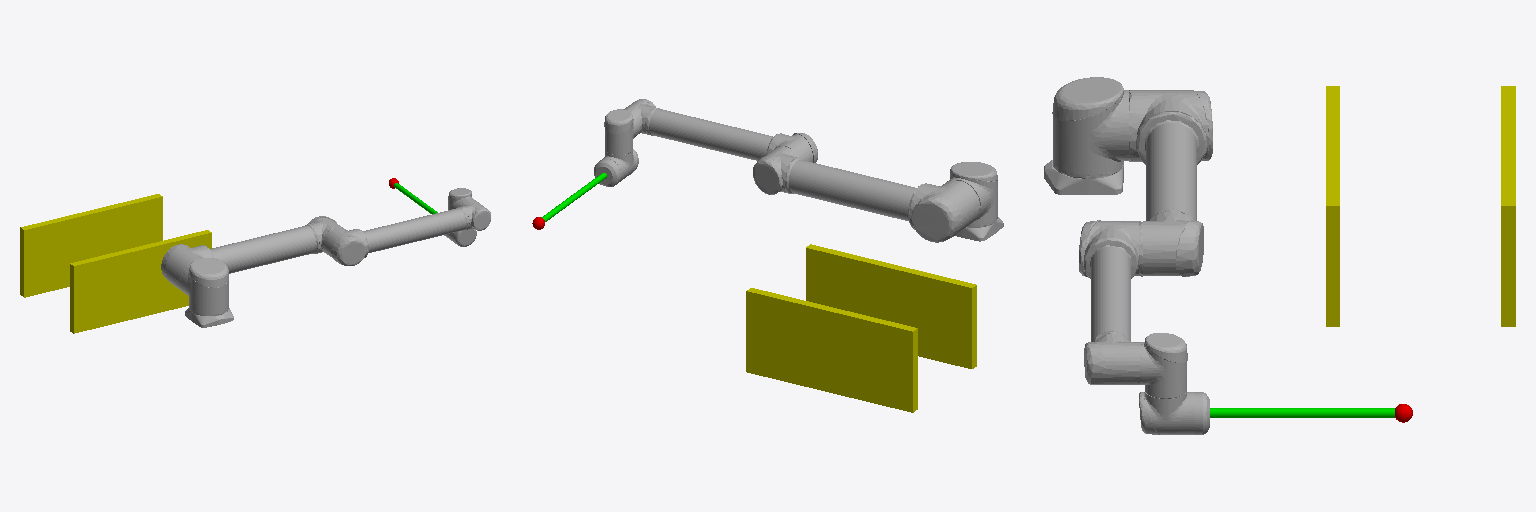
URDF robot description (ur10):
<?xml version="1.0" ?>
<!-- =================================================================================== -->
<!-- |    This document was autogenerated by xacro from ur10_robot.urdf.xacro          | -->
<!-- |    EDITING THIS FILE BY HAND IS NOT RECOMMENDED                                 | -->
<!-- =================================================================================== -->
<robot name="ur10" xmlns:xacro="http://www.ros.org/wiki/xacro">
  <!-- common stuff -->
  <material name="box_color">
    <color rgba="0.8 0.8 0.0 1"/>
  </material>
  <gazebo>
    <plugin filename="libgazebo_ros_control.so" name="ros_control">
      <!--robotNamespace>/</robotNamespace-->
      <!--robotSimType>gazebo_ros_control/DefaultRobotHWSim</robotSimType-->
    </plugin>
    <!--
    <plugin name="gazebo_ros_power_monitor_controller" filename="libgazebo_ros_power_monitor.so">
      <alwaysOn>true</alwaysOn>
      <updateRate>1.0</updateRate>
      <timeout>5</timeout>
      <powerStateTopic>power_state</powerStateTopic>
      <powerStateRate>10.0</powerStateRate>
      <fullChargeCapacity>87.78</fullChargeCapacity>     
      <dischargeRate>-474</dischargeRate>
      <chargeRate>525</chargeRate>
      <dischargeVoltage>15.52</dischargeVoltage>
      <chargeVoltage>16.41</chargeVoltage>
    </plugin>
-->
  </gazebo>
  <!-- ur10 -->
  <!-- arm -->
  <link name="base_link">
    <visual>
      <geometry>
        <mesh filename="meshes/ur10/collision/base.stl.obj"/>
      </geometry>
      <material name="LightGrey">
        <color rgba="0.7 0.7 0.7 1.0"/>
      </material>
    </visual>
    <collision group="arm">
      <geometry>
        <mesh filename="meshes/ur10/collision/base.stl.obj"/>
      </geometry>
    </collision>
    <inertial>
      <mass value="4.0"/>
      <origin rpy="0 0 0" xyz="0.0 0.0 0.0"/>
      <inertia ixx="0.0061063308908" ixy="0.0" ixz="0.0" iyy="0.0061063308908" iyz="0.0" izz="0.01125"/>
    </inertial>
  </link>
  <joint name="shoulder_pan_joint" type="revolute">
    <parent link="base_link"/>
    <child link="shoulder_link"/>
    <origin rpy="0.0 0.0 0.0" xyz="0.0 0.0 0.1273"/>
    <axis xyz="0 0 1"/>
    <limit effort="330.0" lower="-3.1431853" upper="3.1431853" velocity="2.16"/>
    <dynamics damping="10.0" friction="0.1"/>
  </joint>
  <link name="shoulder_link">
    <visual>
      <geometry>
        <mesh filename="meshes/ur10/collision/shoulder.stl.obj"/>
      </geometry>
      <material name="LightGrey">
        <color rgba="0.7 0.7 0.7 1.0"/>
      </material>
    </visual>
    <collision group="arm">
      <geometry>
        <mesh filename="meshes/ur10/collision/shoulder.stl.obj"/>
      </geometry>
    </collision>
    <inertial>
      <mass value="7.778"/>
      <origin rpy="0 0 0" xyz="0.0 0.0 0.0"/>
      <inertia ixx="0.0314743125769" ixy="0.0" ixz="0.0" iyy="0.0314743125769" iyz="0.0" izz="0.021875625"/>
    </inertial>
  </link>
  <joint name="shoulder_lift_joint" type="revolute">
    <parent link="shoulder_link"/>
    <child link="upper_arm_link"/>
    <origin rpy="0.0 1.570796325 0.0" xyz="0.0 0.220941 0.0"/>
    <axis xyz="0 1 0"/>
    <limit effort="330.0" lower="-3.1431853" upper="3.1431853" velocity="2.16"/>
    <dynamics damping="10.0" friction="0.1"/>
  </joint>
  <link name="upper_arm_link">
    <visual>
      <geometry>
        <mesh filename="meshes/ur10/collision/upper_arm.stl.obj"/>
      </geometry>
      <material name="LightGrey">
        <color rgba="0.7 0.7 0.7 1.0"/>
      </material>
    </visual>
    <collision group="arm">
      <geometry>
        <mesh filename="meshes/ur10/collision/upper_arm.stl.obj"/>
      </geometry>
    </collision>
    <inertial>
      <mass value="12.93"/>
      <origin rpy="0 0 0" xyz="0.0 0.0 0.306"/>
      <inertia ixx="0.421753803798" ixy="0.0" ixz="0.0" iyy="0.421753803798" iyz="0.0" izz="0.036365625"/>
    </inertial>
  </link>
  <joint name="elbow_joint" type="revolute">
    <parent link="upper_arm_link"/>
    <child link="forearm_link"/>
    <origin rpy="0.0 0.0 0.0" xyz="0.0 -0.1719 0.612"/>
    <axis xyz="0 1 0"/>
    <limit effort="150.0" lower="-3.1431853" upper="3.1431853" velocity="3.15"/>
    <dynamics damping="10.0" friction="0.1"/>
  </joint>
  <link name="forearm_link">
    <visual>
      <geometry>
        <mesh filename="meshes/ur10/collision/forearm.stl.obj"/>
      </geometry>
      <material name="LightGrey">
        <color rgba="0.7 0.7 0.7 1.0"/>
      </material>
    </visual>
    <collision group="arm">
      <geometry>
        <mesh filename="meshes/ur10/collision/forearm.stl.obj"/>
      </geometry>
    </collision>
    <inertial>
      <mass value="3.87"/>
      <origin rpy="0 0 0" xyz="0.0 0.0 0.28615"/>
      <inertia ixx="0.111069694097" ixy="0.0" ixz="0.0" iyy="0.111069694097" iyz="0.0" izz="0.010884375"/>
    </inertial>
  </link>
  <joint name="wrist_1_joint" type="revolute">
    <parent link="forearm_link"/>
    <child link="wrist_1_link"/>
    <origin rpy="0.0 1.570796325 0.0" xyz="0.0 0.0 0.5723"/>
    <axis xyz="0 1 0"/>
    <limit effort="54.0" lower="-3.1431853" upper="3.1431853" velocity="3.2"/>
    <dynamics damping="10.0" friction="0.1"/>
  </joint>
  <link name="wrist_1_link">
    <visual>
      <geometry>
        <mesh filename="meshes/ur10/collision/wrist_1.stl.obj"/>
      </geometry>
      <material name="LightGrey">
        <color rgba="0.7 0.7 0.7 1.0"/>
      </material>
    </visual>
    <collision group="arm">
      <geometry>
        <mesh filename="meshes/ur10/collision/wrist_1.stl.obj"/>
      </geometry>
    </collision>
    <inertial>
      <mass value="1.96"/>
      <origin rpy="0 0 0" xyz="0.0 0.0 0.0"/>
      <inertia ixx="0.0051082479567" ixy="0.0" ixz="0.0" iyy="0.0051082479567" iyz="0.0" izz="0.0055125"/>
    </inertial>
  </link>
  <joint name="wrist_2_joint" type="revolute">
    <parent link="wrist_1_link"/>
    <child link="wrist_2_link"/>
    <origin rpy="0.0 0.0 0.0" xyz="0.0 0.1149 0.0"/>
    <axis xyz="0 0 1"/>
    <limit effort="54.0" lower="-3.1431853" upper="3.1431853" velocity="3.2"/>
    <dynamics damping="10.0" friction="0.1"/>
  </joint>
  <link name="wrist_2_link">
    <visual>
      <geometry>
        <mesh filename="meshes/ur10/collision/wrist_2.stl.obj"/>
      </geometry>
      <material name="LightGrey">
        <color rgba="0.7 0.7 0.7 1.0"/>
      </material>
    </visual>
    <collision group="arm">
      <geometry>
        <mesh filename="meshes/ur10/collision/wrist_2.stl.obj"/>
      </geometry>
    </collision>
    <inertial>
      <mass value="1.96"/>
      <origin rpy="0 0 0" xyz="0.0 0.0 0.0"/>
      <inertia ixx="0.0051082479567" ixy="0.0" ixz="0.0" iyy="0.0051082479567" iyz="0.0" izz="0.0055125"/>
    </inertial>
  </link>
  <joint name="wrist_3_joint" type="revolute">
    <parent link="wrist_2_link"/>
    <child link="wrist_3_link"/>
    <origin rpy="0.0 0.0 0.0" xyz="0.0 0.0 0.1157"/>
    <axis xyz="0 1 0"/>
    <limit effort="54.0" lower="-3.1431853" upper="3.1431853" velocity="3.2"/>
    <dynamics damping="10.0" friction="0.1"/>
  </joint>
  <link name="wrist_3_link">
    <visual>
      <geometry>
        <mesh filename="meshes/ur10/collision/wrist_3.stl.obj"/>
      </geometry>
      <material name="LightGrey">
        <color rgba="0.7 0.7 0.7 1.0"/>
      </material>
    </visual>
    <collision group="arm">
      <geometry>
        <mesh filename="meshes/ur10/collision/wrist_3.stl.obj"/>
      </geometry>
    </collision>
    <inertial>
      <mass value="0.202"/>
      <origin rpy="0 0 0" xyz="0.0 0.0 0.0"/>
      <inertia ixx="0.00052643.149415" ixy="0.0" ixz="0.0" iyy="0.000526462289415" iyz="0.0" izz="0.000568125"/>
    </inertial>
  </link>
  <joint name="ee_fixed_joint" type="fixed">
    <parent link="wrist_3_link"/>
    <child link="ee_link"/>
    <origin rpy="0.0 0.0 1.570796325" xyz="0.5 0.0 0.0"/>
  </joint>
  <link name="ee_link">
    <collision group="arm">
      <geometry>
        <box size="0.01 0.01 0.01"/>
      </geometry>
      <origin rpy="0 0 0" xyz="-0.01 0 0"/>
    </collision>
  </link>

  <joint name="eoat_arm_fixed_joint" type="fixed">
    <parent link="wrist_3_link"/>
    <child link="eoat_arm"/>
    <origin rpy="0.0 0.0 1.570796325" xyz="0.0 0.0 0.0"/>
  </joint>
  <link name="eoat_arm">
    <visual>
      <geometry>
        <cylinder radius="0.01" length="0.5"/>
      </geometry>
      <origin rpy="0 1.570796325 0" xyz="0.25 0.0 0.0"/>
      <material name="Green">
        <color rgba="0.0 0.9 0.0 1.0"/>
      </material>
    </visual>
    <collision group="arm">
      <geometry>
        <cylinder radius="0.01" length="0.5"/>
      </geometry>
      <origin rpy="0 1.570796325 0" xyz="0.25 0.0 0.0"/>
    </collision>
  </link>

  <joint name="eoat_fixed_joint" type="fixed">
    <parent link="eoat_arm"/>
    <child link="eoat"/>
    <origin rpy="0.0 0.0 0.0" xyz="0.5 0.0 0.0"/>
  </joint>
  <link name="eoat">
    <visual>
      <geometry>
        <sphere radius="0.02"/>
      </geometry>
      <origin rpy="0 0.0 0" xyz="0.0 0.0 0.0"/>
      <material name="Red">
        <color rgba="0.9 0.0 0.0 1.0"/>
      </material>
    </visual>
    <collision group="arm">
      <geometry>
        <sphere radius="0.02"/>
      </geometry>
      <origin rpy="0 0.0 0" xyz="0.0 0.0 0.0"/>
    </collision>
  </link>


  <gazebo>
    <plugin filename="libgazebo_ros_control.so" name="gazebo_ros_controller">
      <robotNamespace>/ur10</robotNamespace>
    </plugin>
  </gazebo>
  <!-- Link0 -->
  <gazebo reference="base_link">
    <material>Gazebo/Grey</material>
    <mu1>0.2</mu1>
    <mu2>0.2</mu2>
  </gazebo>
  <!-- Link1 -->
  <gazebo reference="shoulder_link">
    <material>Gazebo/Orange</material>
    <mu1>0.2</mu1>
    <mu2>0.2</mu2>
  </gazebo>
  <!-- Link2 -->
  <gazebo reference="upper_arm_link">
    <material>Gazebo/Orange</material>
    <mu1>0.2</mu1>
    <mu2>0.2</mu2>
  </gazebo>
  <!-- Link3 -->
  <gazebo reference="forearm_link">
    <material>Gazebo/Orange</material>
    <mu1>0.2</mu1>
    <mu2>0.2</mu2>
  </gazebo>
  <!-- Link4 -->
  <gazebo reference="wrist_1_link">
    <material>Gazebo/Orange</material>
    <mu1>0.2</mu1>
    <mu2>0.2</mu2>
  </gazebo>
  <!-- Link5 -->
  <gazebo reference="wrist_2_link">
    <material>Gazebo/Orange</material>
    <mu1>0.2</mu1>
    <mu2>0.2</mu2>
  </gazebo>
  <!-- Link6 -->
  <gazebo reference="wrist_3_link">
    <material>Gazebo/Orange</material>
    <mu1>0.2</mu1>
    <mu2>0.2</mu2>
  </gazebo>
  <transmission name="shoulder_pan_trans">
    <type>transmission_interface/SimpleTransmission</type>
    <joint name="shoulder_pan_joint"/>
    <actuator name="shoulder_pan_motor">
      <hardwareInterface>EffortJointInterface</hardwareInterface>
      <mechanicalReduction>1</mechanicalReduction>
    </actuator>
  </transmission>
  <transmission name="shoulder_lift_trans">
    <type>transmission_interface/SimpleTransmission</type>
    <joint name="shoulder_lift_joint"/>
    <actuator name="shoulder_lift_motor">
      <hardwareInterface>EffortJointInterface</hardwareInterface>
      <mechanicalReduction>1</mechanicalReduction>
    </actuator>
  </transmission>
  <transmission name="elbow_trans">
    <type>transmission_interface/SimpleTransmission</type>
    <joint name="elbow_joint"/>
    <actuator name="elbow_motor">
      <hardwareInterface>EffortJointInterface</hardwareInterface>
      <mechanicalReduction>1</mechanicalReduction>
    </actuator>
  </transmission>
  <transmission name="wrist_1_trans">
    <type>transmission_interface/SimpleTransmission</type>
    <joint name="wrist_1_joint"/>
    <actuator name="wrist_1_motor">
      <hardwareInterface>EffortJointInterface</hardwareInterface>
      <mechanicalReduction>1</mechanicalReduction>
    </actuator>
  </transmission>
  <transmission name="wrist_2_trans">
    <type>transmission_interface/SimpleTransmission</type>
    <joint name="wrist_2_joint"/>
    <actuator name="wrist_2_motor">
      <hardwareInterface>EffortJointInterface</hardwareInterface>
      <mechanicalReduction>1</mechanicalReduction>
    </actuator>
  </transmission>
  <transmission name="wrist_3_trans">
    <type>transmission_interface/SimpleTransmission</type>
    <joint name="wrist_3_joint"/>
    <actuator name="wrist_3_motor">
      <hardwareInterface>EffortJointInterface</hardwareInterface>
      <mechanicalReduction>1</mechanicalReduction>
    </actuator>
  </transmission>

  <joint name="walls_joint" type="fixed">
    <origin rpy="0 0 1.570795" xyz="0.0 0.7 -0.2"/>
    <parent link="base_link"/>
    <child link="walls"/>
  </joint>
  <link name="walls"/>
  <link name="front_wall">
    <visual>
      <geometry>
        <box size="0.03 0.6 0.28"/>
      </geometry>
      <material name="box_color"/>
    </visual>
    <collision group="tote">
      <geometry>
        <box size="0.03 0.6 0.28"/>
      </geometry>
    </collision>
    <inertial>
      <origin rpy="0 0 0" xyz="0.015 0.3 0.14"/>
      <mass value="1"/>
      <inertia ixx="1.0" ixy="0.0" ixz="0.0" iyy="1.0" iyz="0.0" izz="1.0"/>
    </inertial>
  </link>
  <joint name="walls-front_wall" type="fixed">
    <parent link="walls"/>
    <child link="front_wall"/>
    <origin rpy="0 0 0" xyz="0.185 0 0.14"/>
  </joint>
  <gazebo reference="front_wall">
    <material>Gazebo/Orange</material>
    <gravity>false</gravity>
    <selfCollide>true</selfCollide>
  </gazebo>
  <link name="back_wall">
    <visual>
      <geometry>
        <box size="0.03 0.6 0.28"/>
      </geometry>
      <material name="box_color"/>
    </visual>
    <collision group="tote">
      <geometry>
        <box size="0.03 0.6 0.28"/>
      </geometry>
    </collision>
    <inertial>
      <origin rpy="0 0 0" xyz="0.015 0.3 0.14"/>
      <mass value="1"/>
      <inertia ixx="1.0" ixy="0.0" ixz="0.0" iyy="1.0" iyz="0.0" izz="1.0"/>
    </inertial>
  </link>
  <joint name="walls-back_wall" type="fixed">
    <parent link="walls"/>
    <child link="back_wall"/>
    <origin rpy="0 0 0" xyz="-0.185 0 0.14"/>
  </joint>
  <gazebo reference="back_wall">
    <material>Gazebo/Orange</material>
    <gravity>false</gravity>
    <selfCollide>true</selfCollide>
  </gazebo>

</robot>

--- Render facts (derived) ---
3 views of the same robot in one strip: view 1: azimuth 30°, elevation 25°; view 2: azimuth 150°, elevation 25°; view 3: azimuth 270°, elevation 25° (orthographic).
Model ur10 with 13 links and 12 joints (6 revolute, 6 fixed), rooted at base_link, posed every joint at zero.
Links seen in each view (by area): view 1: front_wall, back_wall, upper_arm_link, forearm_link, shoulder_link; view 2: front_wall, back_wall, upper_arm_link, forearm_link, shoulder_link, wrist_1_link, wrist_3_link; view 3: upper_arm_link, forearm_link, shoulder_link, front_wall, back_wall, wrist_1_link, wrist_2_link, eoat_arm, base_link, wrist_3_link.
Boxes of the visible links, x1=… form: front_wall: x1=20, y1=194, x2=162, y2=297; back_wall: x1=70, y1=230, x2=211, y2=333; upper_arm_link: x1=161, y1=216, x2=342, y2=291; forearm_link: x1=322, y1=198, x2=490, y2=265; shoulder_link: x1=181, y1=258, x2=228, y2=315; front_wall: x1=746, y1=288, x2=917, y2=412; back_wall: x1=806, y1=244, x2=976, y2=368; upper_arm_link: x1=753, y1=147, x2=980, y2=242; forearm_link: x1=624, y1=99, x2=817, y2=162; shoulder_link: x1=947, y1=162, x2=997, y2=227; wrist_1_link: x1=604, y1=109, x2=639, y2=154; wrist_3_link: x1=594, y1=159, x2=621, y2=186; upper_arm_link: x1=1129, y1=90, x2=1212, y2=276; forearm_link: x1=1079, y1=220, x2=1142, y2=384; shoulder_link: x1=1052, y1=77, x2=1128, y2=178; front_wall: x1=1501, y1=86, x2=1515, y2=326; back_wall: x1=1326, y1=86, x2=1339, y2=326; wrist_1_link: x1=1140, y1=333, x2=1187, y2=398; wrist_2_link: x1=1139, y1=392, x2=1194, y2=434; eoat_arm: x1=1210, y1=408, x2=1394, y2=417; base_link: x1=1044, y1=160, x2=1123, y2=194; wrist_3_link: x1=1195, y1=392, x2=1209, y2=434.
Size in the robot's own frame: 1.53 by 0.992 by 0.4154 metres.
7 mesh visuals loaded from 7 distinct referenced files (7 OBJ).